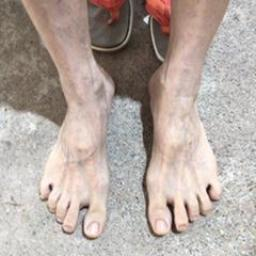Dorsal View -Both Feet-: (30, 56, 229, 244)
